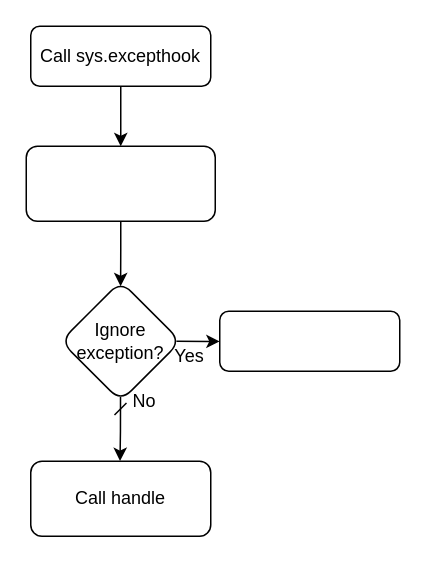
This 426x563 diagram has some shape labels left out. The box of each missing label's shape, as (x1, y1, x2, y2) in pixels:
Aspreno's exception handler obtain info about the exception: (25, 145, 215, 221)
Resume code: (218, 310, 400, 371)
